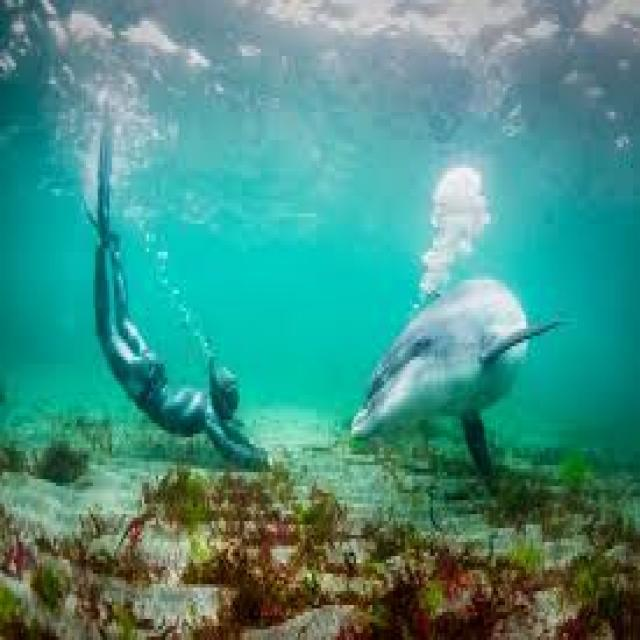dolphin: (344, 206, 584, 532)
